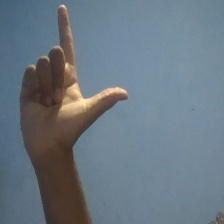L: (13, 3, 130, 159)
